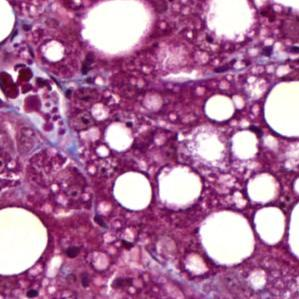steatosis: (198, 213, 250, 268), (105, 172, 154, 210), (203, 95, 239, 121)
